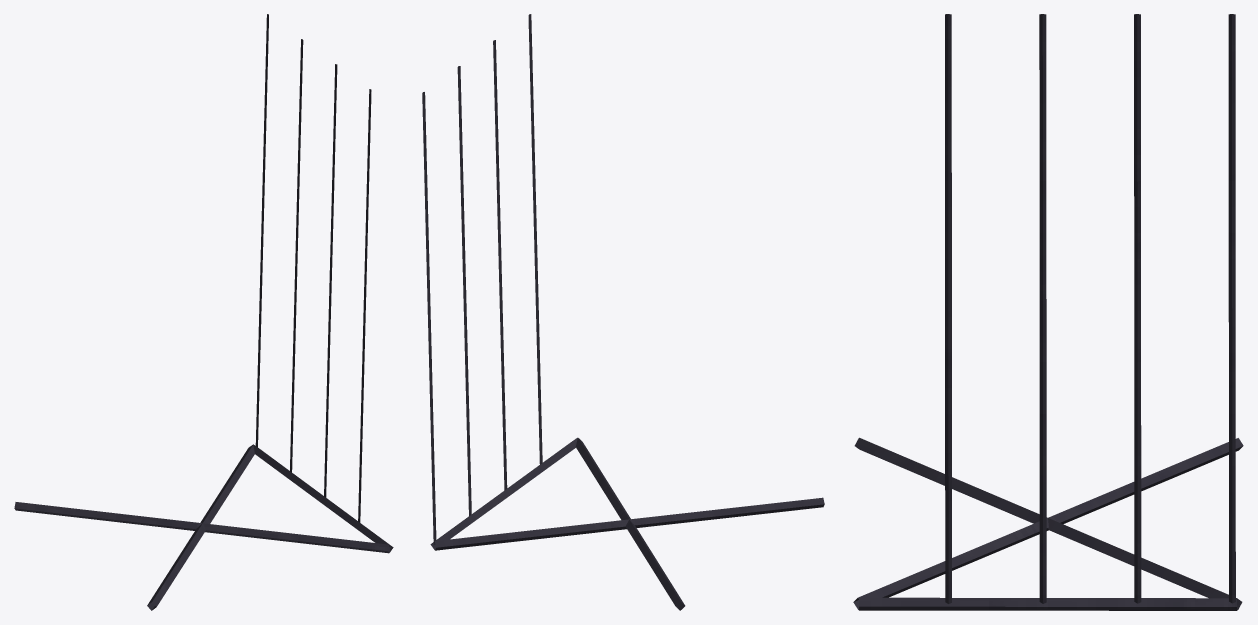
Rendered from Factory_Roof_Structural_Support.glb.
3 views of the same model, side by side, from view 1: azimuth 30°, elevation 25°; view 2: azimuth 150°, elevation 25°; view 3: azimuth 270°, elevation 25° (orthographic). The views are drawn at different scales.
Visible parts, largest first — view 1: Factory_Roof_Structural_Support; view 2: Factory_Roof_Structural_Support; view 3: Factory_Roof_Structural_Support.
Boxes of the visible parts, x1,y1,x2,y2 form: Factory_Roof_Structural_Support: (14,14,393,610); Factory_Roof_Structural_Support: (422,14,824,610); Factory_Roof_Structural_Support: (853,14,1243,610).
Bounding box in the file's own units: 4.31 × 7.06 × 4.13.
Materials: 1 (1 with a texture image).
